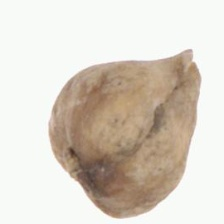L1: (53, 151, 103, 207), (175, 48, 202, 97)
L2: (47, 48, 202, 219)
